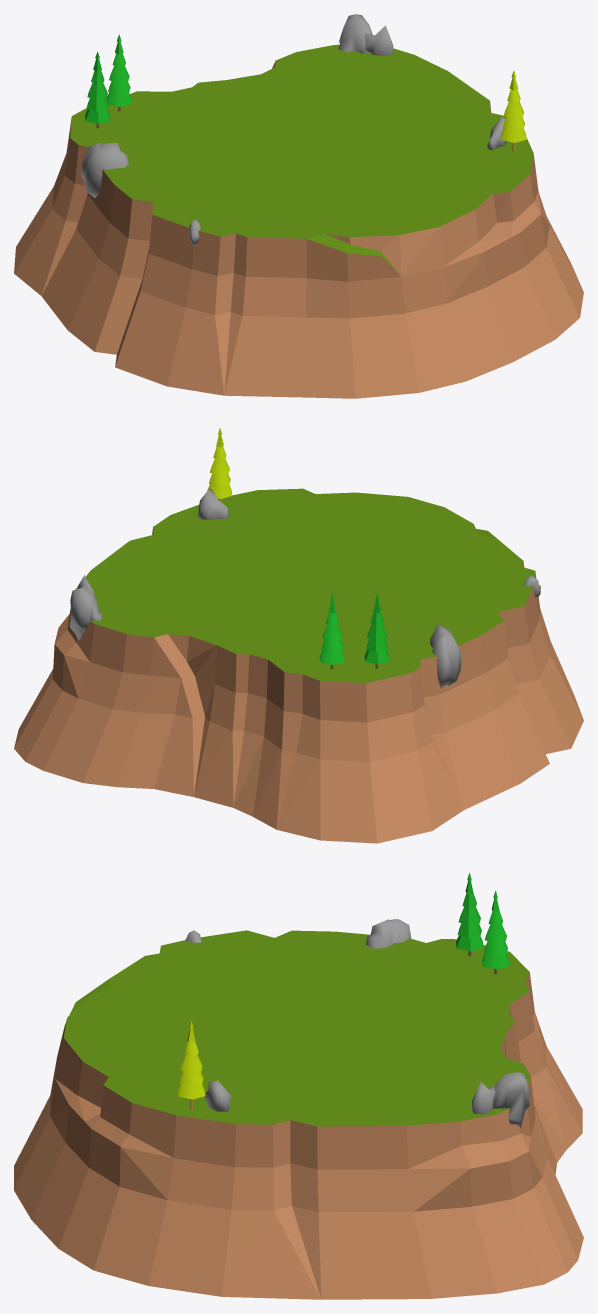
File: Islands_11.FBX
The picture shows the model from 3 angles, top to bottom: view 1: azimuth 30°, elevation 25°; view 2: azimuth 150°, elevation 25°; view 3: azimuth 270°, elevation 25°; orthographic projection. The views are drawn at different scales.
Parts seen in each view (by area): view 1: Islands_11; view 2: Islands_11; view 3: Islands_11.
Boxes of the visible parts, x1=… form: Islands_11: x1=14, y1=14, x2=583, y2=398; Islands_11: x1=14, y1=428, x2=583, y2=843; Islands_11: x1=14, y1=873, x2=583, y2=1299.
Size of the model in its own units: 6312 by 2921 by 6309.
